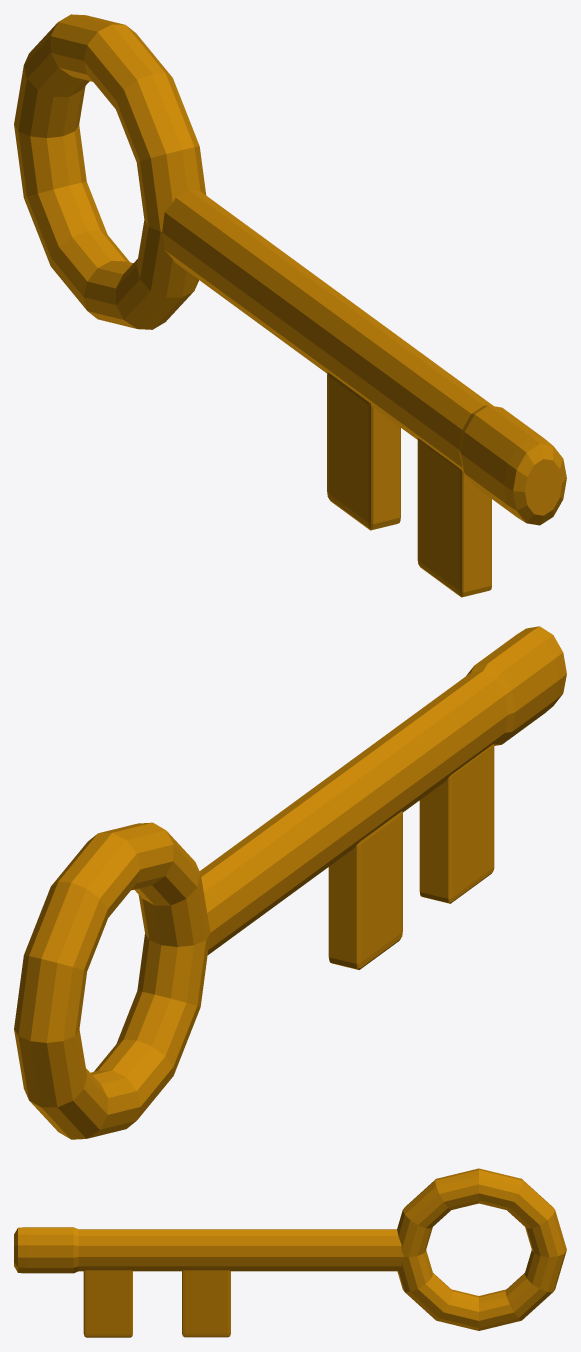
The model's file is key.obj.
3 renders of one model, top to bottom at view 1: azimuth 30°, elevation 25°; view 2: azimuth 150°, elevation 25°; view 3: azimuth 270°, elevation 25°, orthographic. The views are drawn at different scales.
Visible parts, largest first — view 1: Cube.001; view 2: Cube.001; view 3: Cube.001.
Part boxes in pixels (x1,y1,x2,y2): Cube.001: (14, 14, 566, 597); Cube.001: (14, 626, 566, 1139); Cube.001: (14, 1168, 566, 1337).
Bounding box in the file's own units: 0.5061 × 2.57 × 7.85.
